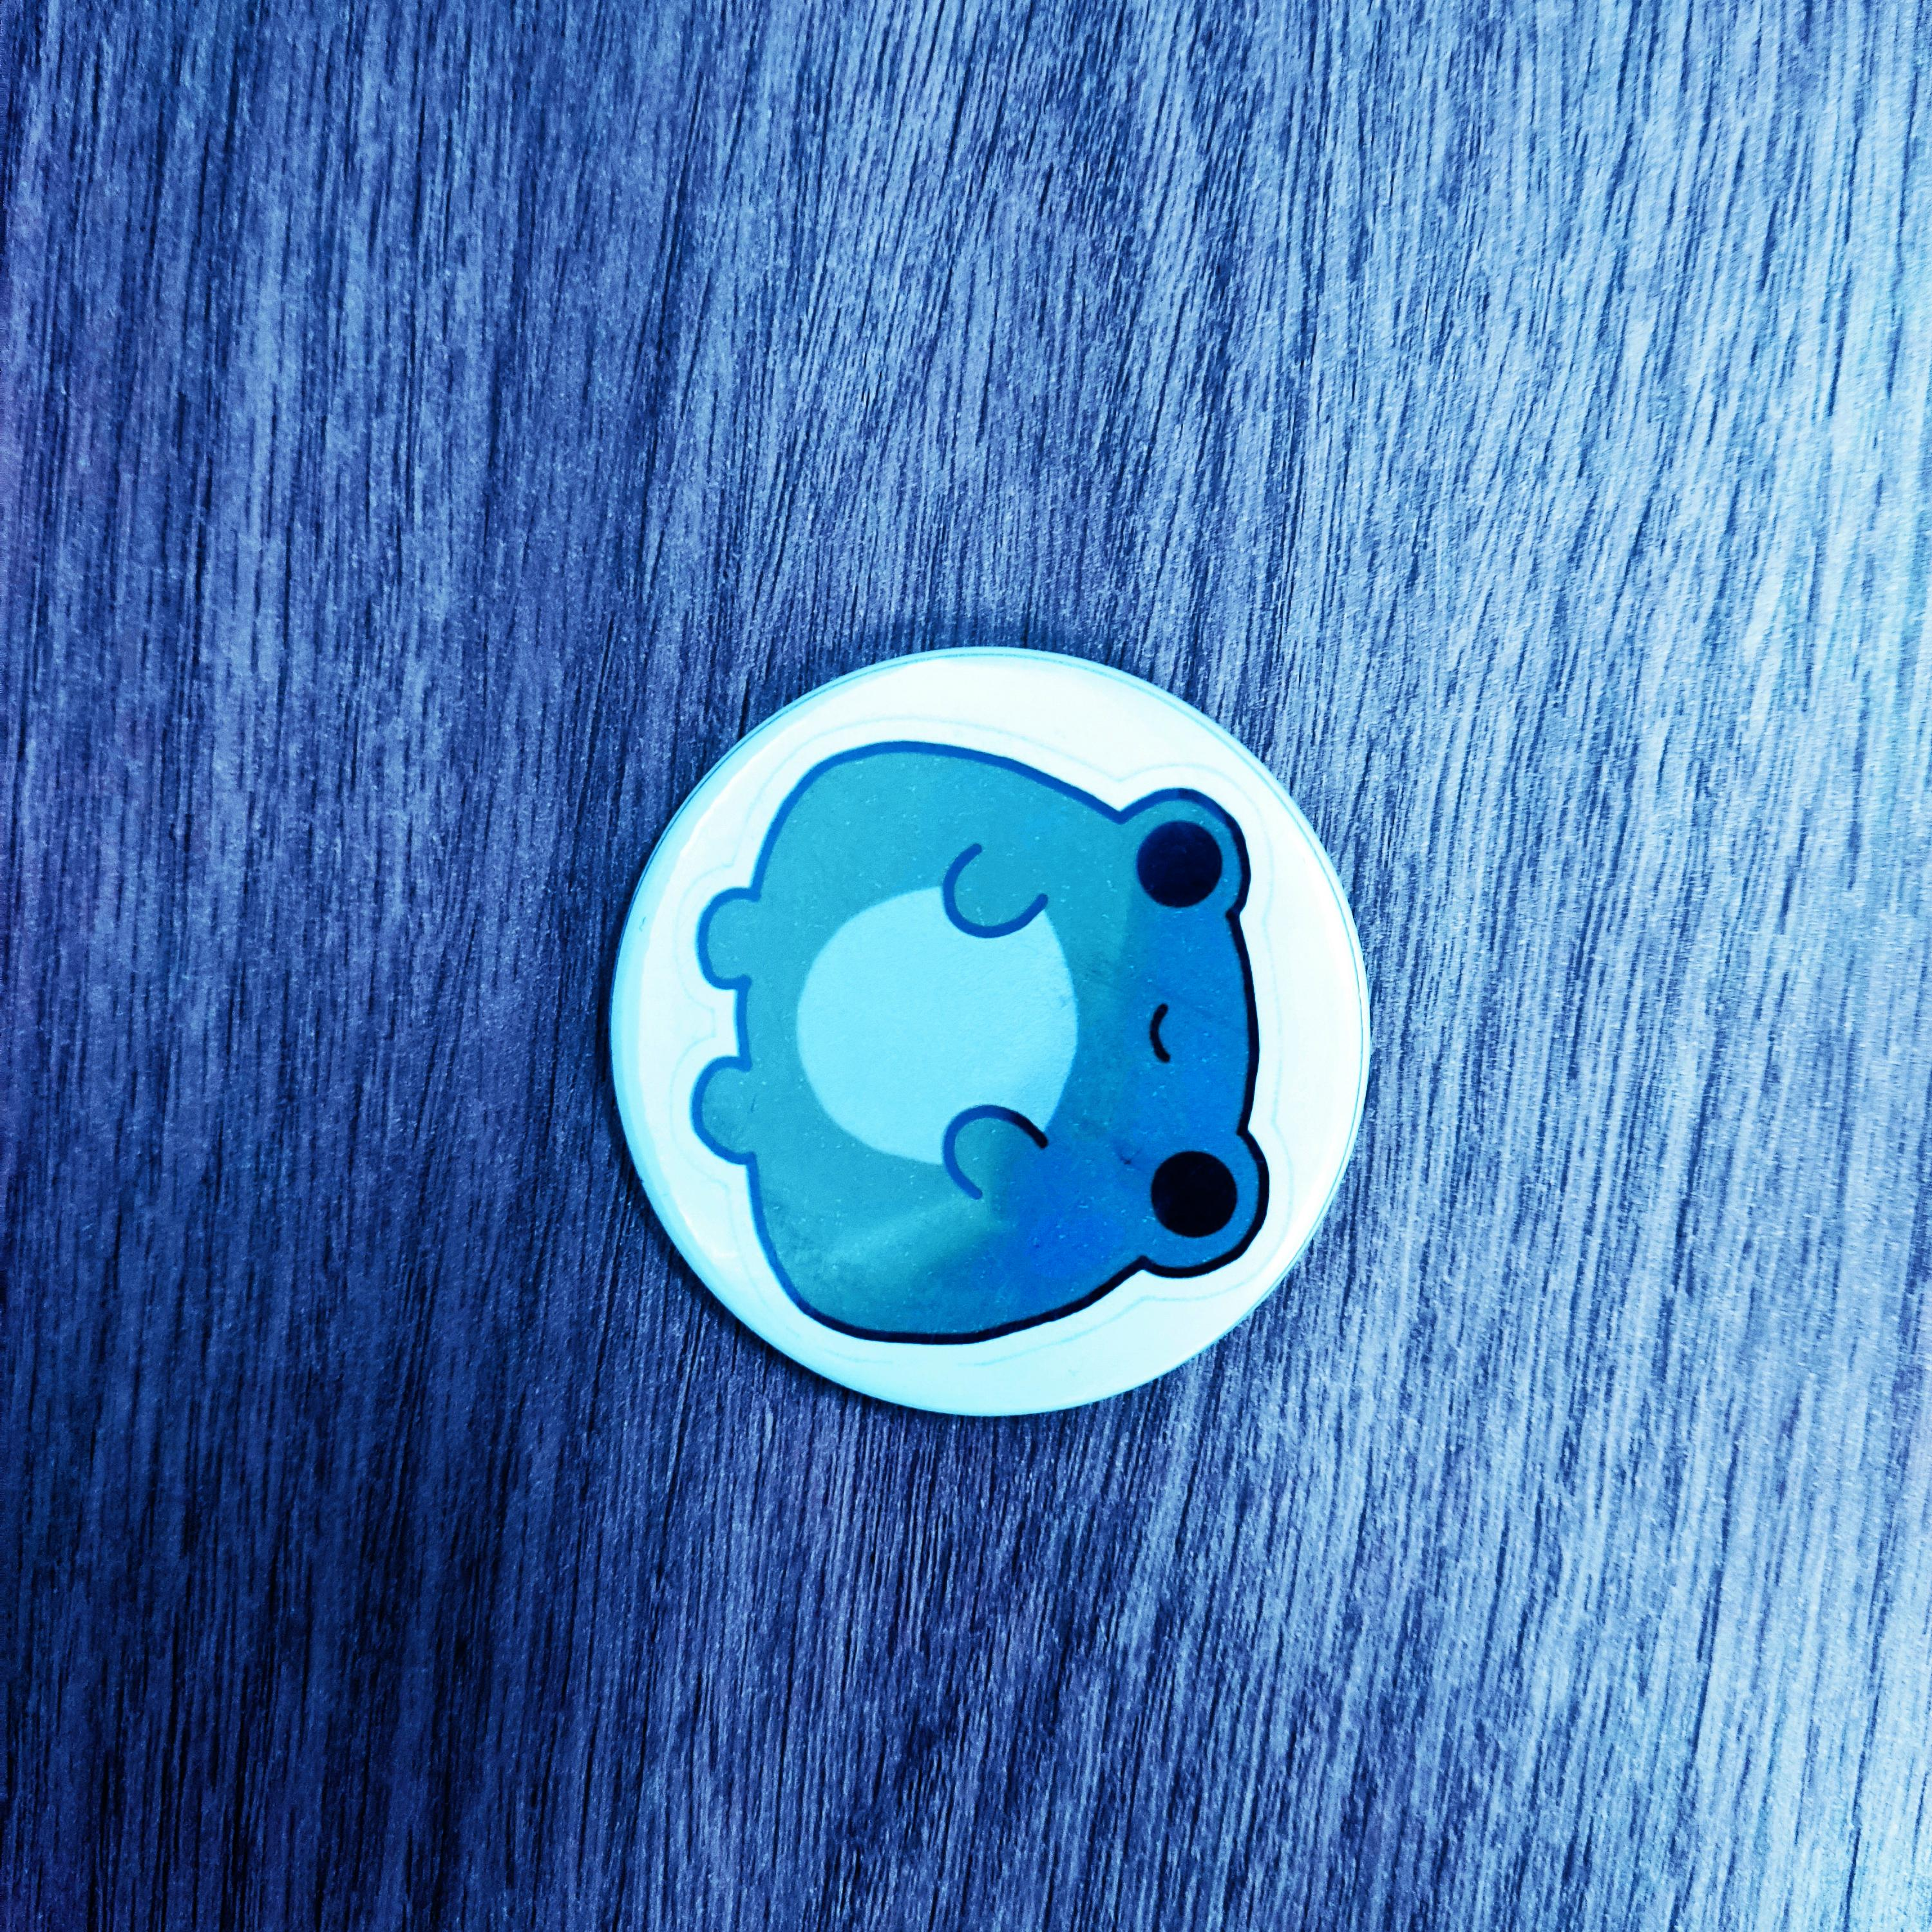pin: (632, 580, 1366, 1442)
